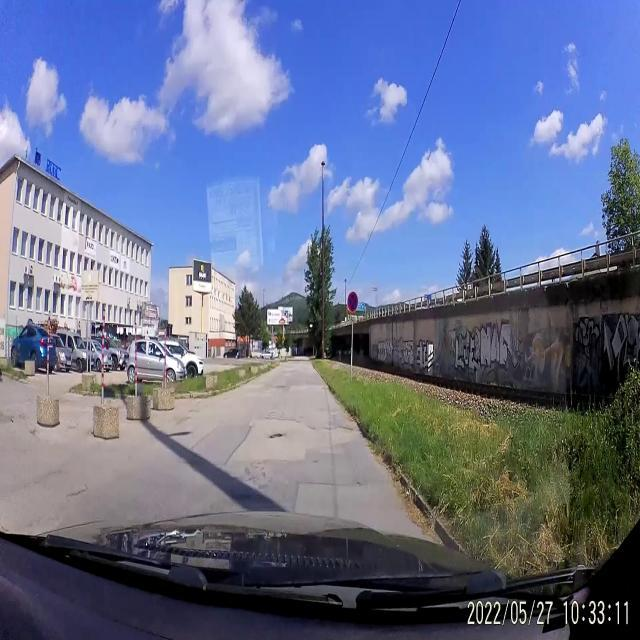Pothole: (267, 426, 284, 444)
